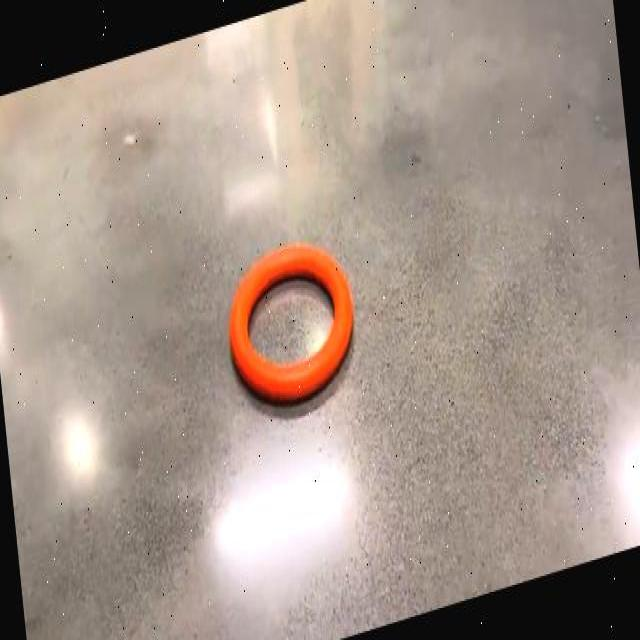note: (229, 244, 353, 402)
